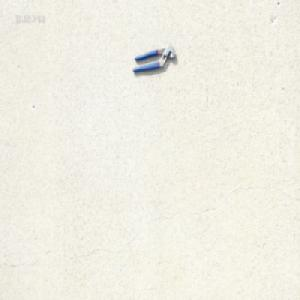Pliers: (131, 43, 176, 74)
